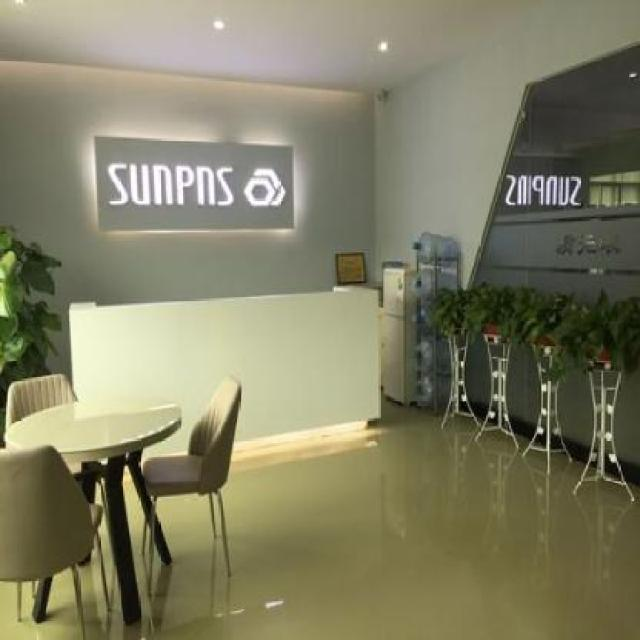frontdesk: (46, 283, 386, 455)
